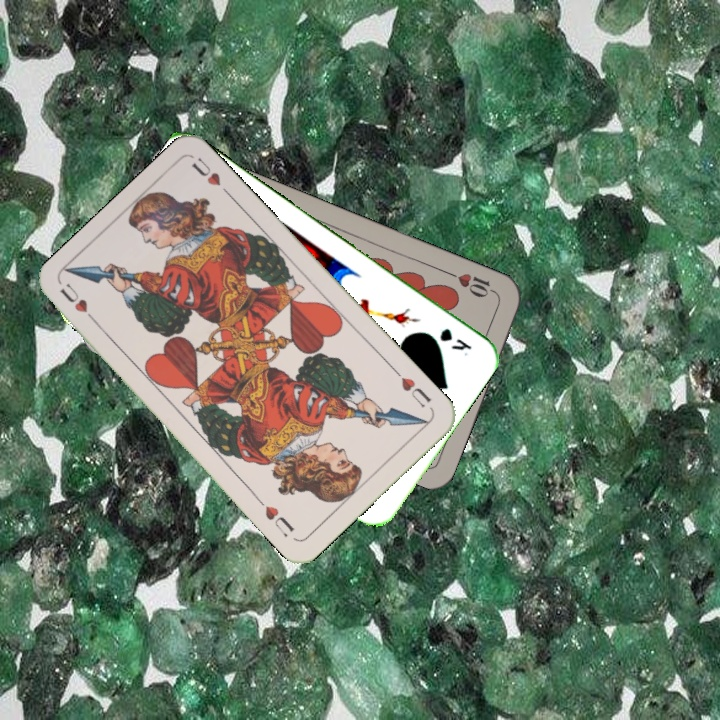GK: (435, 324, 474, 353)
H10: (443, 267, 500, 300)
HU: (56, 279, 102, 329), (390, 365, 435, 411)
